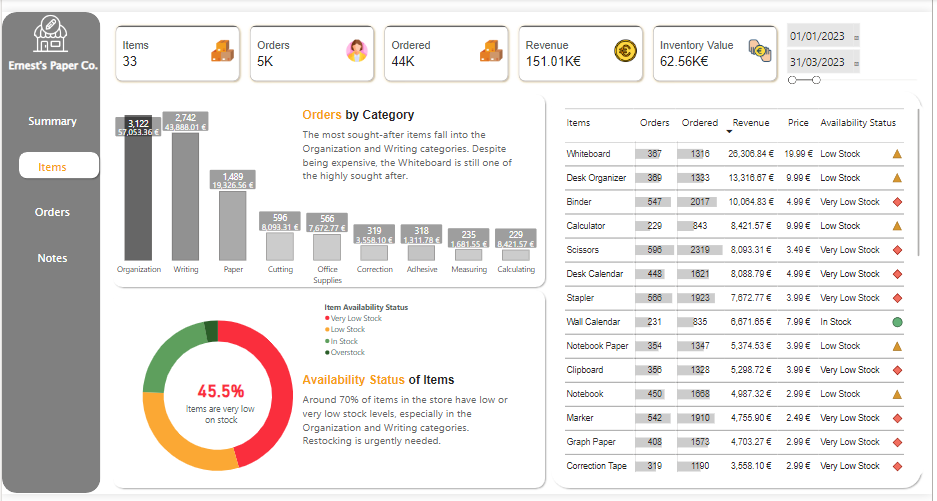

What the dashboard file says about the page in this screenshot:
{"tool":"powerbi","page":{"name":"Items","canvas":[2900,1500],"ordinal":2},"visuals":[{"type":"image","box":[78,0,146.2,133.2],"z":0,"group":"g2"},{"type":"group","id":"g1","title":"Group 2","box":[336.8,237,2538.3,1256.7],"z":0},{"type":"shape","box":[336.8,857.5,1365.8,636.1],"z":0,"group":"g1"},{"type":"shape","box":[0,0,307.1,1500],"z":1000},{"type":"textbox","box":[16.3,136.4,298.8,100.7],"z":1000,"group":"g2"},{"type":"shape","box":[336.8,246.4,1365.8,620.5],"z":1000,"group":"g1"},{"type":"shape","box":[1702.6,237,1172.5,1256.7],"z":2000,"group":"g1"},{"type":"shape","box":[41.4,428.1,268.7,100.4],"z":2000,"group":"g3"},{"type":"cardVisual","fields":{"Data":["CountNonNull(public items.item_id)","Measures (2).Orders","Measures (2).Ordered","Measures (2).Revenue","Measures (2).Inventory Value"]},"box":[336.8,24.9,2098.6,208.9],"z":3000},{"type":"columnChart","fields":{"Category":["public items.category"],"Y":["Measures (2).Orders"]},"box":[283.8,252.6,1428.2,604.9],"z":4000},{"type":"tableEx","fields":{"Values":["public items.item","Measures (2).Orders","Sum(inventory level.quantity_ordered)","Sum(inventory level.Revenue)","public items.price_in_€","inventory level.availability_status"]},"box":[1740,286.9,1135.1,1160],"z":5000},{"type":"donutChart","fields":{"Category":["inventory level.availability_status"],"Y":["CountNonNull(inventory level.public items_item)"]},"box":[338.2,898.1,941.9,596.5],"z":6000},{"type":"card","fields":{"Values":["Measures (2).Very Low Stock"]},"box":[554,1050.8,255.9,286],"z":7000},{"type":"actionButton","box":[14.8,292.3,283.5,97.4],"z":8000,"group":"g3"},{"type":"actionButton","box":[14.8,435,283.5,97.4],"z":9000,"group":"g3"},{"type":"actionButton","box":[14.8,577.8,283.5,97.4],"z":10000,"group":"g3"},{"type":"actionButton","box":[14.8,720.5,283.5,97.4],"z":11000,"group":"g3"},{"type":"slicer","fields":{"Values":["CalenderDim.Date"]},"box":[2435.4,24.9,439.7,224.5],"z":13000},{"type":"textbox","box":[932.4,1119.5,673.5,327.4],"z":14000},{"type":"textbox","box":[932.4,293.1,673.5,308.7],"z":15000},{"type":"group","id":"g2","title":"Group 1","box":[16.3,0,298.8,237.1],"z":16000,"group":"g3"},{"type":"group","id":"g3","title":"Group 3","box":[14.8,0,300.3,817.9],"z":16001}]}

Visuals, with their boxes on the page's 2900x1500 design canvas (x1, y1, x2, y2). These are canvas units, not pixel positions in the 937x501 screenshot, which may show the page scaled, cropped or inside an application window:
image: (78, 0, 224, 133)
"Group 2" group: (337, 237, 2875, 1494)
shape: (337, 858, 1703, 1494)
shape: (0, 0, 307, 1500)
textbox: (16, 136, 315, 237)
shape: (337, 246, 1703, 867)
shape: (1703, 237, 2875, 1494)
shape: (41, 428, 310, 528)
cardVisual - CountNonNull(public items.item_id) x Measures (2).Orders: (337, 25, 2435, 234)
columnChart - public items.category x Measures (2).Orders: (284, 253, 1712, 858)
tableEx - public items.item x Measures (2).Orders: (1740, 287, 2875, 1447)
donutChart - inventory level.availability_status x CountNonNull(inventory level.public items_item): (338, 898, 1280, 1495)
card - Measures (2).Very Low Stock: (554, 1051, 810, 1337)
actionButton: (15, 292, 298, 390)
actionButton: (15, 435, 298, 532)
actionButton: (15, 578, 298, 675)
actionButton: (15, 720, 298, 818)
slicer - CalenderDim.Date: (2435, 25, 2875, 249)
textbox: (932, 1120, 1606, 1447)
textbox: (932, 293, 1606, 602)
"Group 1" group: (16, 0, 315, 237)
"Group 3" group: (15, 0, 315, 818)
